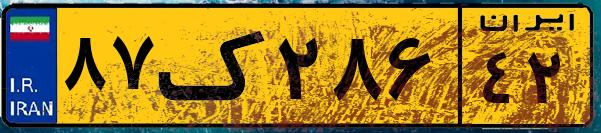2: (270, 28, 330, 110), (525, 38, 570, 115)
4: (475, 38, 525, 113)
6: (385, 28, 445, 110)
7: (110, 28, 158, 98)
8: (330, 28, 385, 110), (57, 26, 110, 100)
ک: (158, 12, 270, 120)
